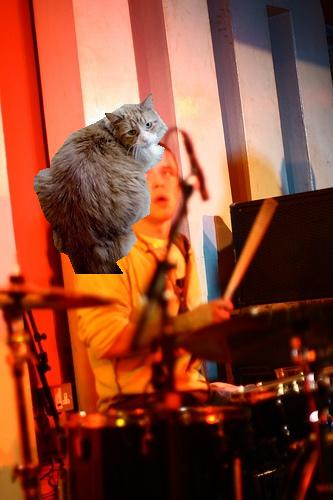tampered: (34, 94, 168, 274)
